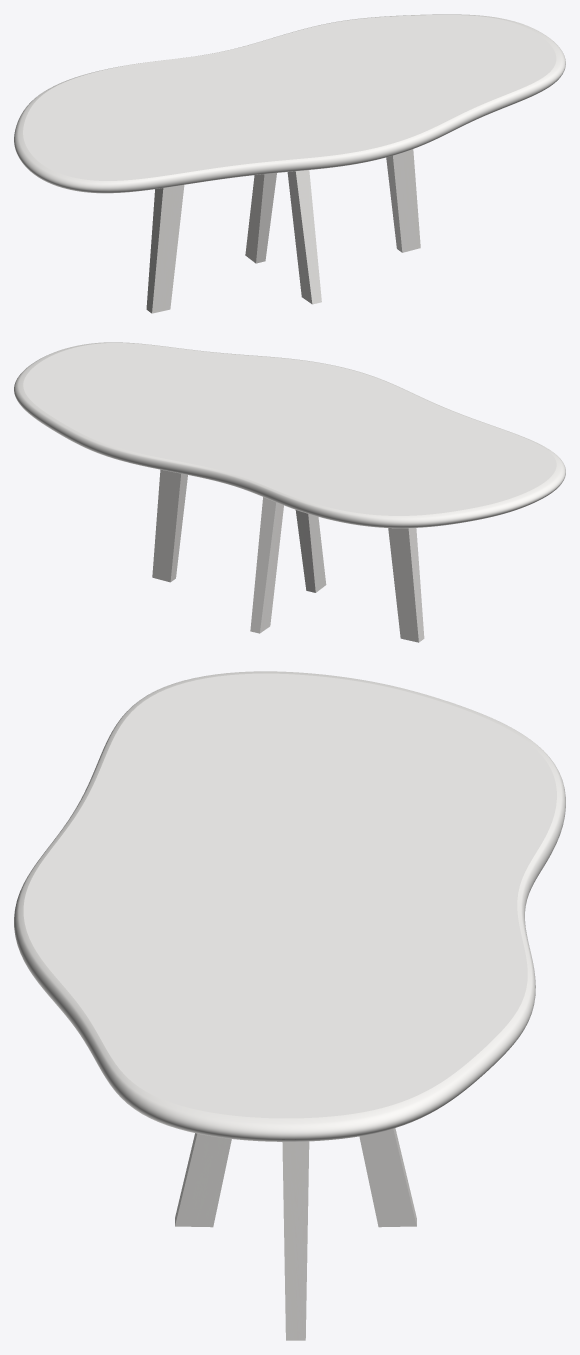
Rendered from purewhite_toplast_round_searwalnut.glb.
3 renders of one model, top to bottom at view 1: azimuth 30°, elevation 25°; view 2: azimuth 150°, elevation 25°; view 3: azimuth 270°, elevation 25°, orthographic. The views are drawn at different scales.
Visible parts, largest first — view 1: round_toplast, searwalnut; view 2: round_toplast, searwalnut; view 3: round_toplast, searwalnut.
Boxes of the visible parts, box(x1,y1,x2,y2) form: round_toplast: box(14, 14, 565, 193); searwalnut: box(146, 149, 420, 313); round_toplast: box(14, 342, 565, 528); searwalnut: box(152, 469, 424, 642); round_toplast: box(14, 671, 565, 1141); searwalnut: box(175, 1128, 416, 1340).
Bounding box in the file's own units: 7.5 × 2.5 × 3.8.
1 material, 1 textured.
